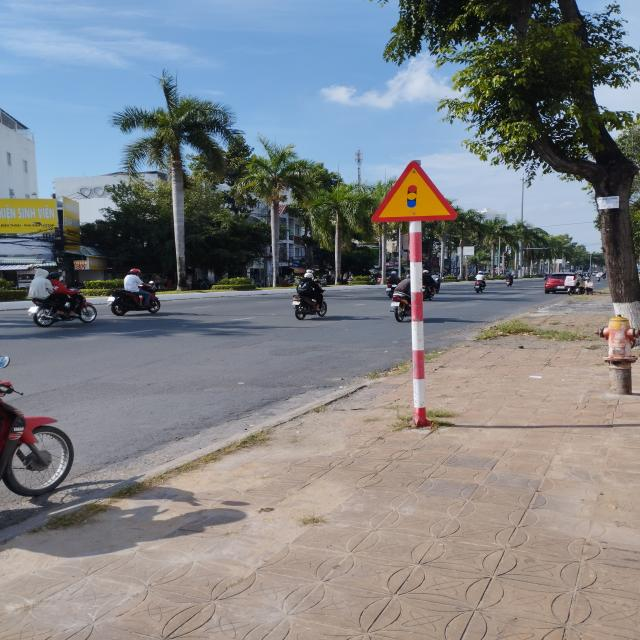Duong_Co_Go_Giam_Toc: (371, 161, 458, 221)
